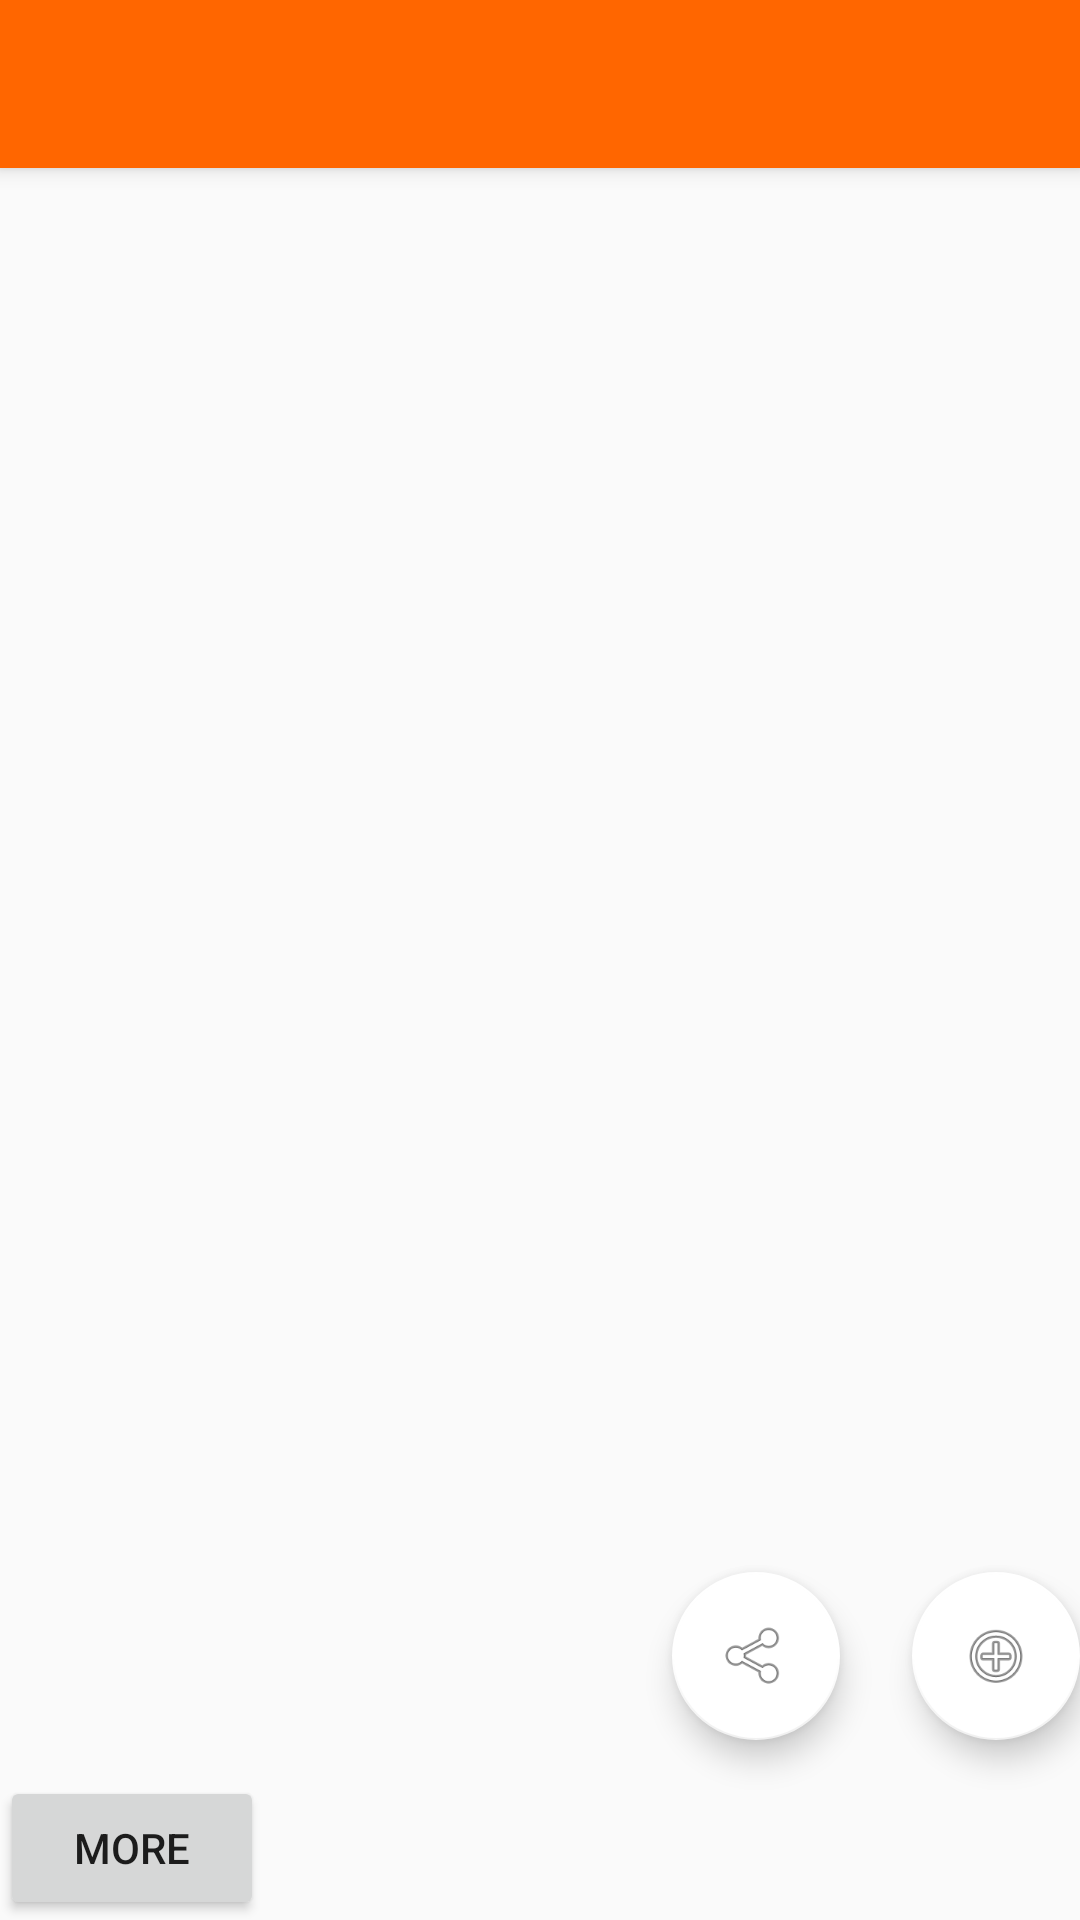

Screen size 1080w x 1920h. Icon name, then its box in pixels as [x1,y1,x2,y2]:
add: [918,1630,1080,1740]
share: [674,1627,840,1740]
